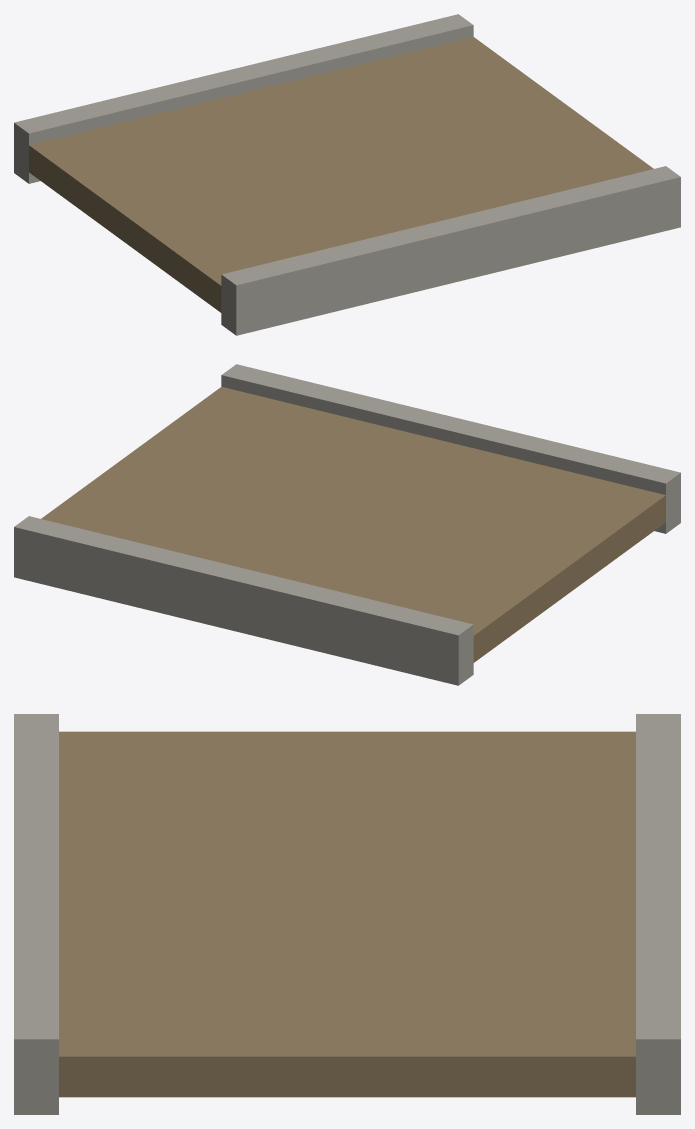
Rendered from trail.fbx.
3 views of the same model, one above another, from view 1: azimuth 30°, elevation 25°; view 2: azimuth 150°, elevation 25°; view 3: azimuth 270°, elevation 25° (orthographic). The views are drawn at different scales.
Visible parts, largest first — view 1: a2000/200/trail; view 2: a2000/200/trail; view 3: a2000/200/trail.
Part boxes in pixels (x1,y1,x2,y2): a2000/200/trail: (14, 14, 680, 335); a2000/200/trail: (14, 364, 680, 685); a2000/200/trail: (14, 714, 680, 1114).
Bounding box in the file's own units: 1.2 × 0.13 × 1.04.
